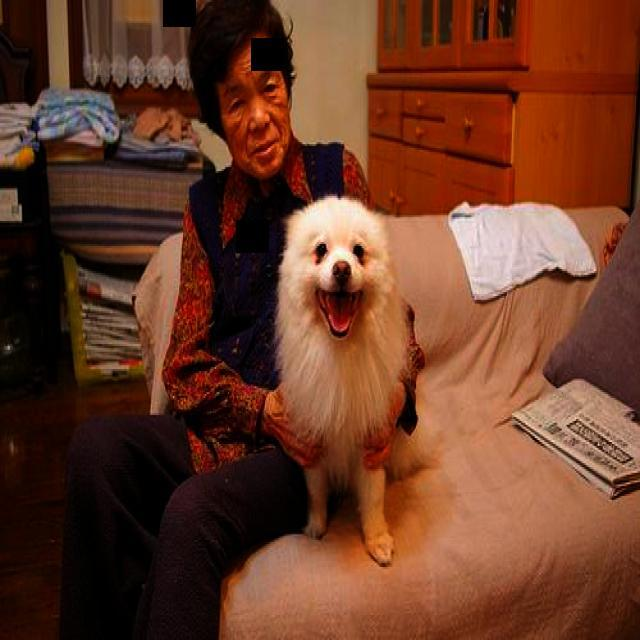adult_dog: (272, 198, 431, 566)
non-dog: (61, 1, 427, 640)
